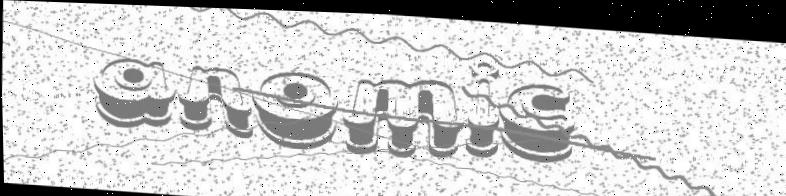a: (89, 53, 178, 131)
c: (497, 76, 577, 161)
i: (462, 55, 502, 156)
m: (339, 69, 463, 157)
n: (174, 60, 257, 141)
o: (249, 65, 340, 150)
